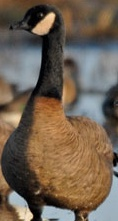goose: (1, 2, 118, 217)
